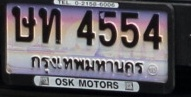txt18: (37, 6, 64, 45)
txt34: (10, 5, 36, 43)
